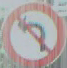Don't turn left: (4, 3, 59, 62)
